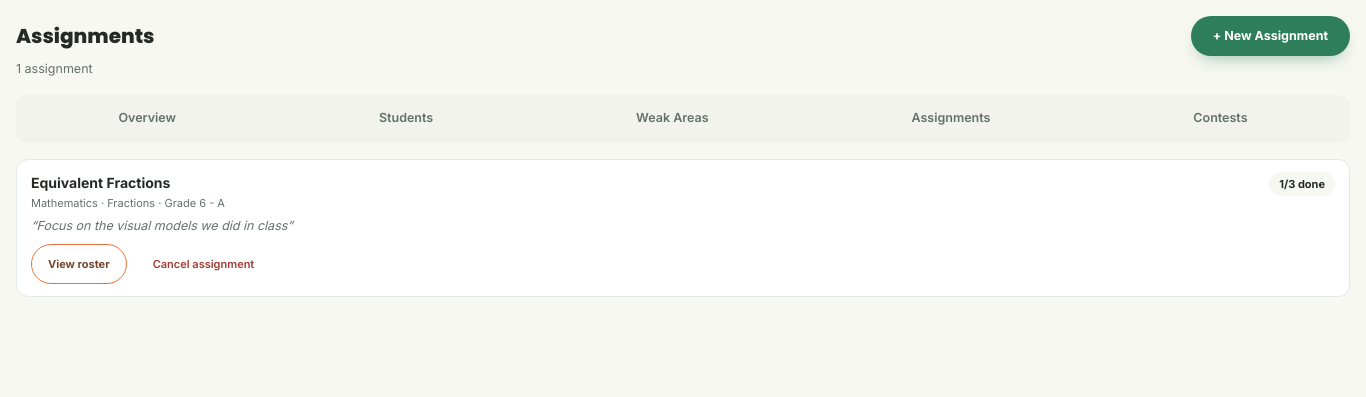
Test case: TeacherAssignments › View roster fetches and shows each student's completion status
Expected: the text "Equivalent Fractions" is shown, x1=31 y1=174 x2=170 y2=191
Click the button "View roster" at (79, 264), box x1=31 y1=244 x2=127 y2=284
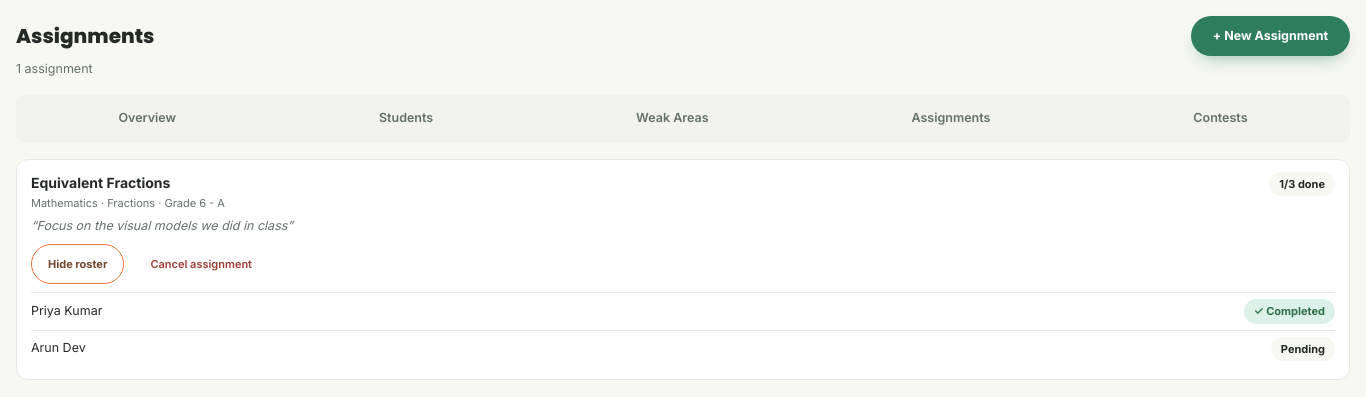
Result: the text "Priya Kumar" is shown at x1=31 y1=302 x2=102 y2=321
Result: the text "✓ Completed" is shown at x1=1244 y1=299 x2=1335 y2=324
Result: the text "Arun Dev" is shown at x1=31 y1=339 x2=86 y2=358
